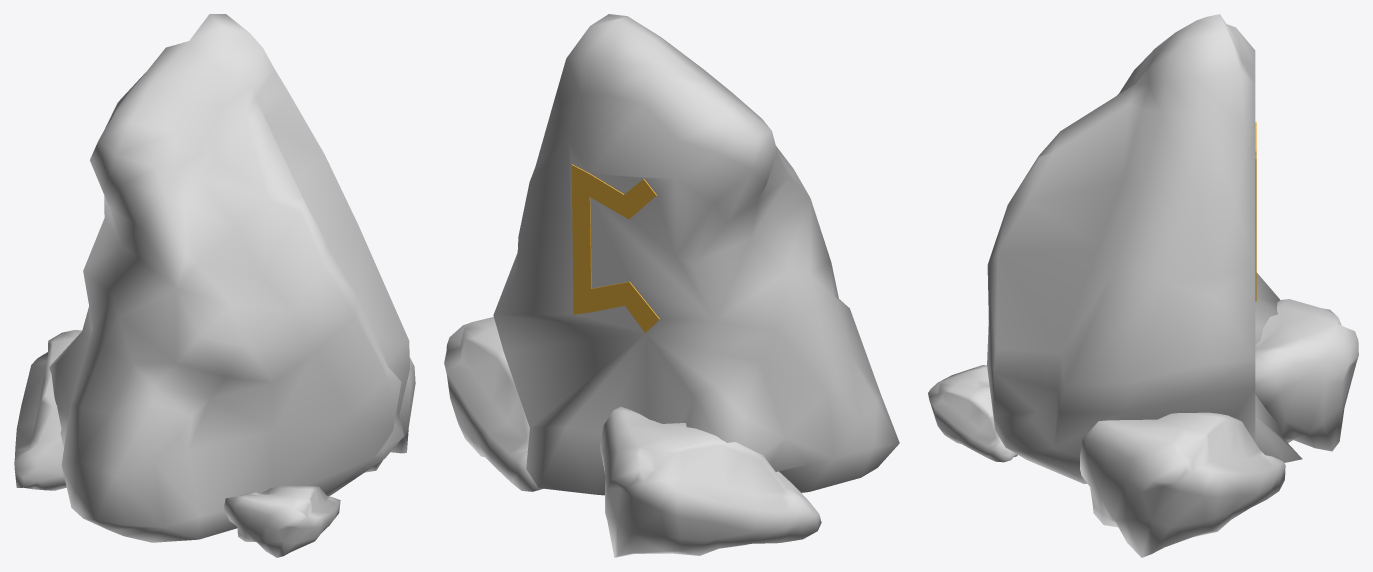
The model's file is Pertho.fbx.
The picture shows the model from 3 angles, left to right: view 1: azimuth 30°, elevation 25°; view 2: azimuth 150°, elevation 25°; view 3: azimuth 270°, elevation 25°; orthographic projection. The views are drawn at different scales.
Visible parts, largest first — view 1: stone; view 2: stone, Pertho; view 3: stone.
Part boxes in pixels (left/top/right/bottom): stone: left=14, top=14, right=415, bottom=557; stone: left=444, top=14, right=899, bottom=557; Pertho: left=571, top=164, right=659, bottom=332; stone: left=928, top=14, right=1358, bottom=557.
Size of the model in its own units: 155 by 181 by 152.
